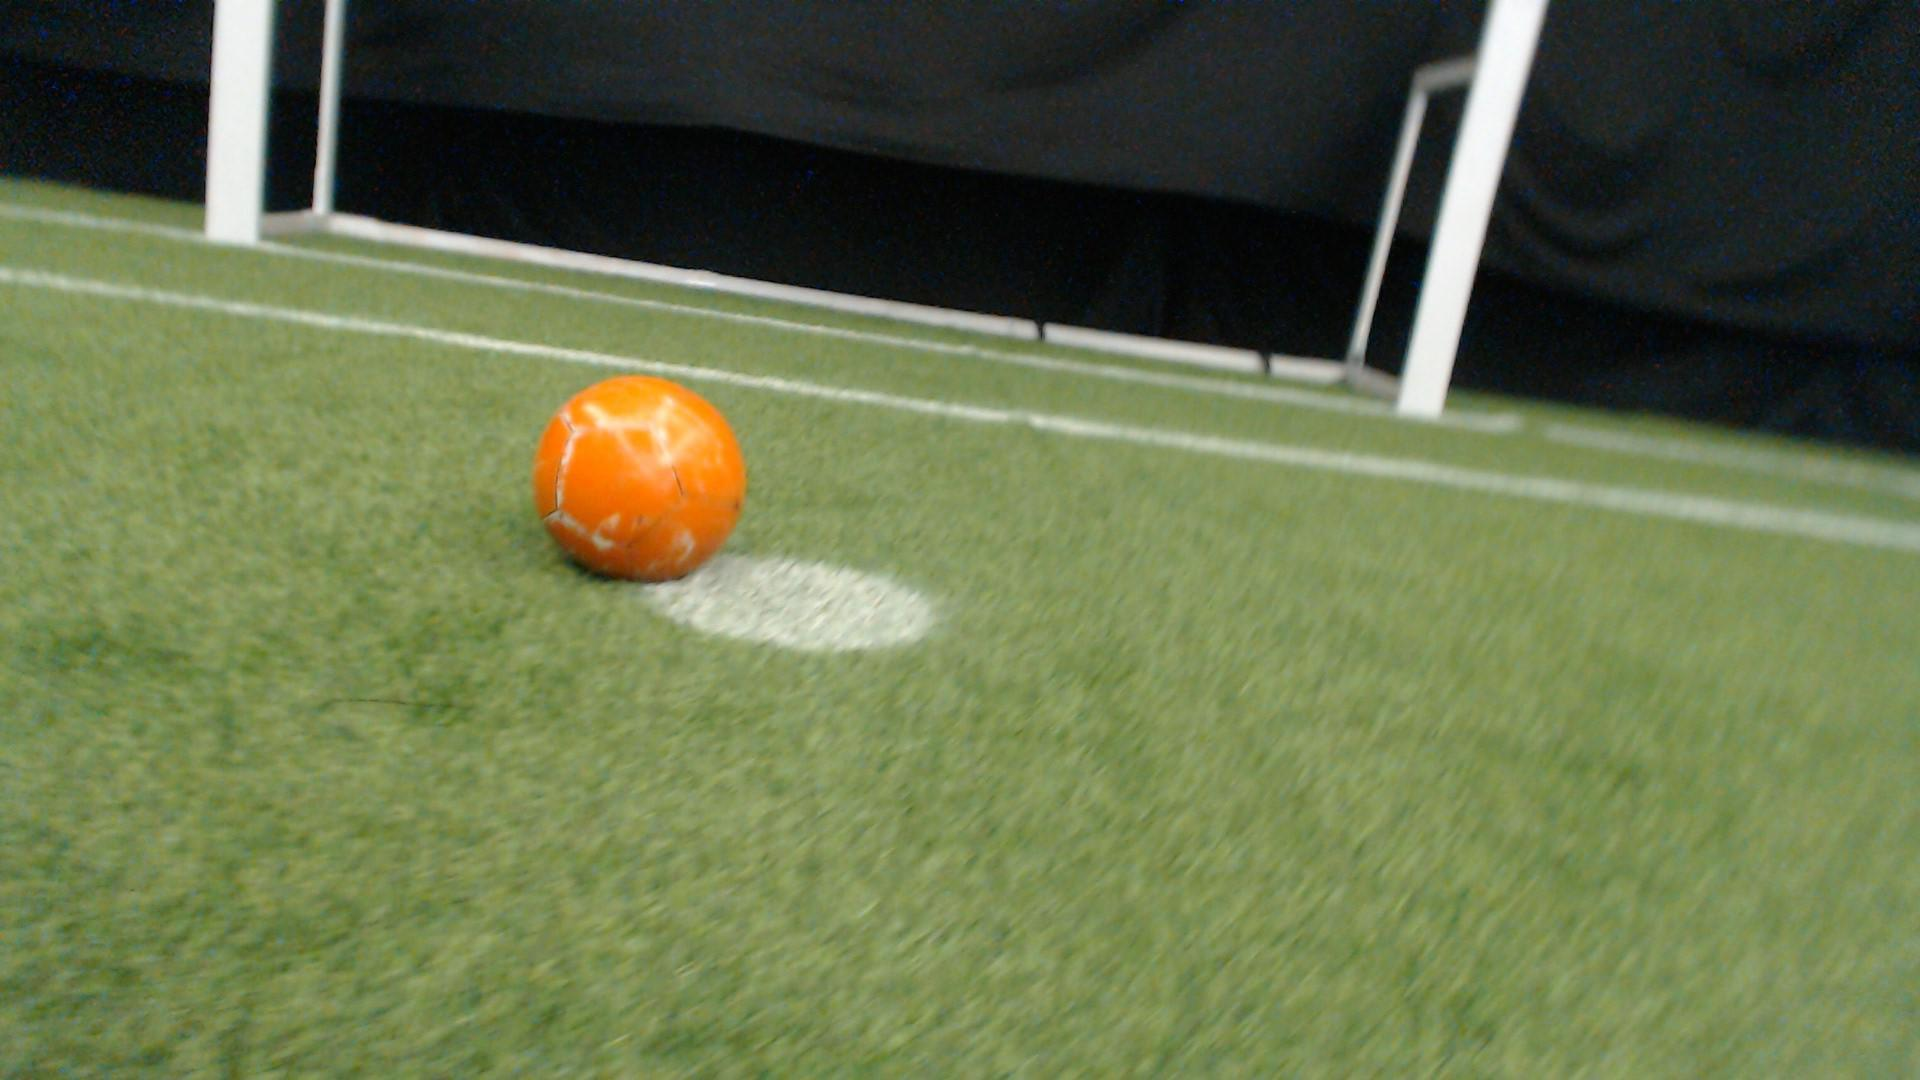bola: (508, 363, 756, 604)
